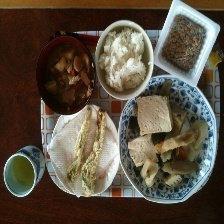rice: (97, 24, 149, 91)
